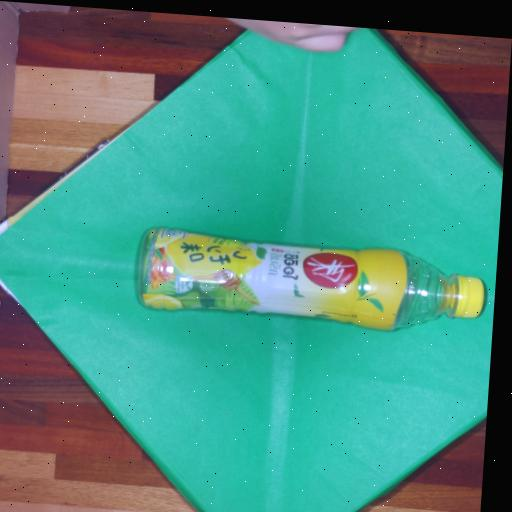bottle: (117, 211, 499, 351)
